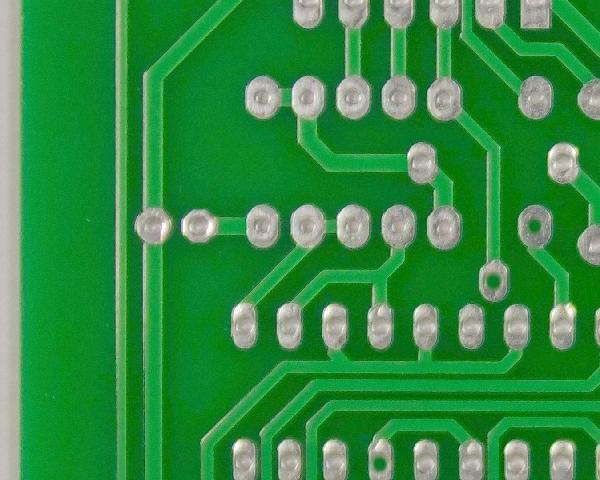missing hole: (516, 199, 555, 253), (474, 257, 514, 304), (364, 434, 399, 480)
